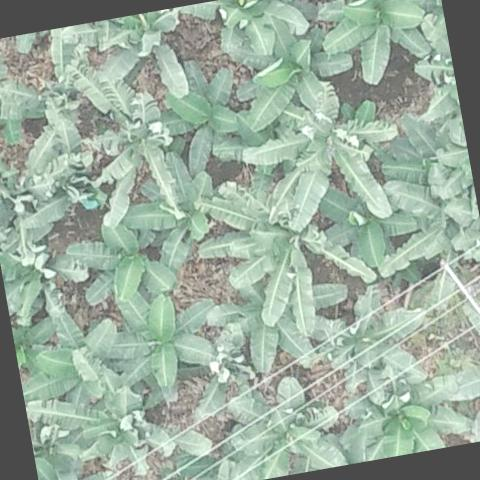Banana-plant: (182, 154, 386, 354), (227, 70, 412, 246), (40, 39, 188, 242), (17, 331, 185, 480), (199, 258, 359, 390), (92, 281, 233, 415), (222, 11, 364, 144), (114, 138, 236, 292), (332, 347, 480, 464), (359, 159, 480, 294), (138, 58, 253, 188), (0, 115, 92, 276), (8, 292, 128, 415), (312, 0, 453, 93), (218, 371, 346, 473), (61, 206, 182, 312), (87, 7, 194, 115), (174, 0, 322, 73), (31, 425, 124, 480)
